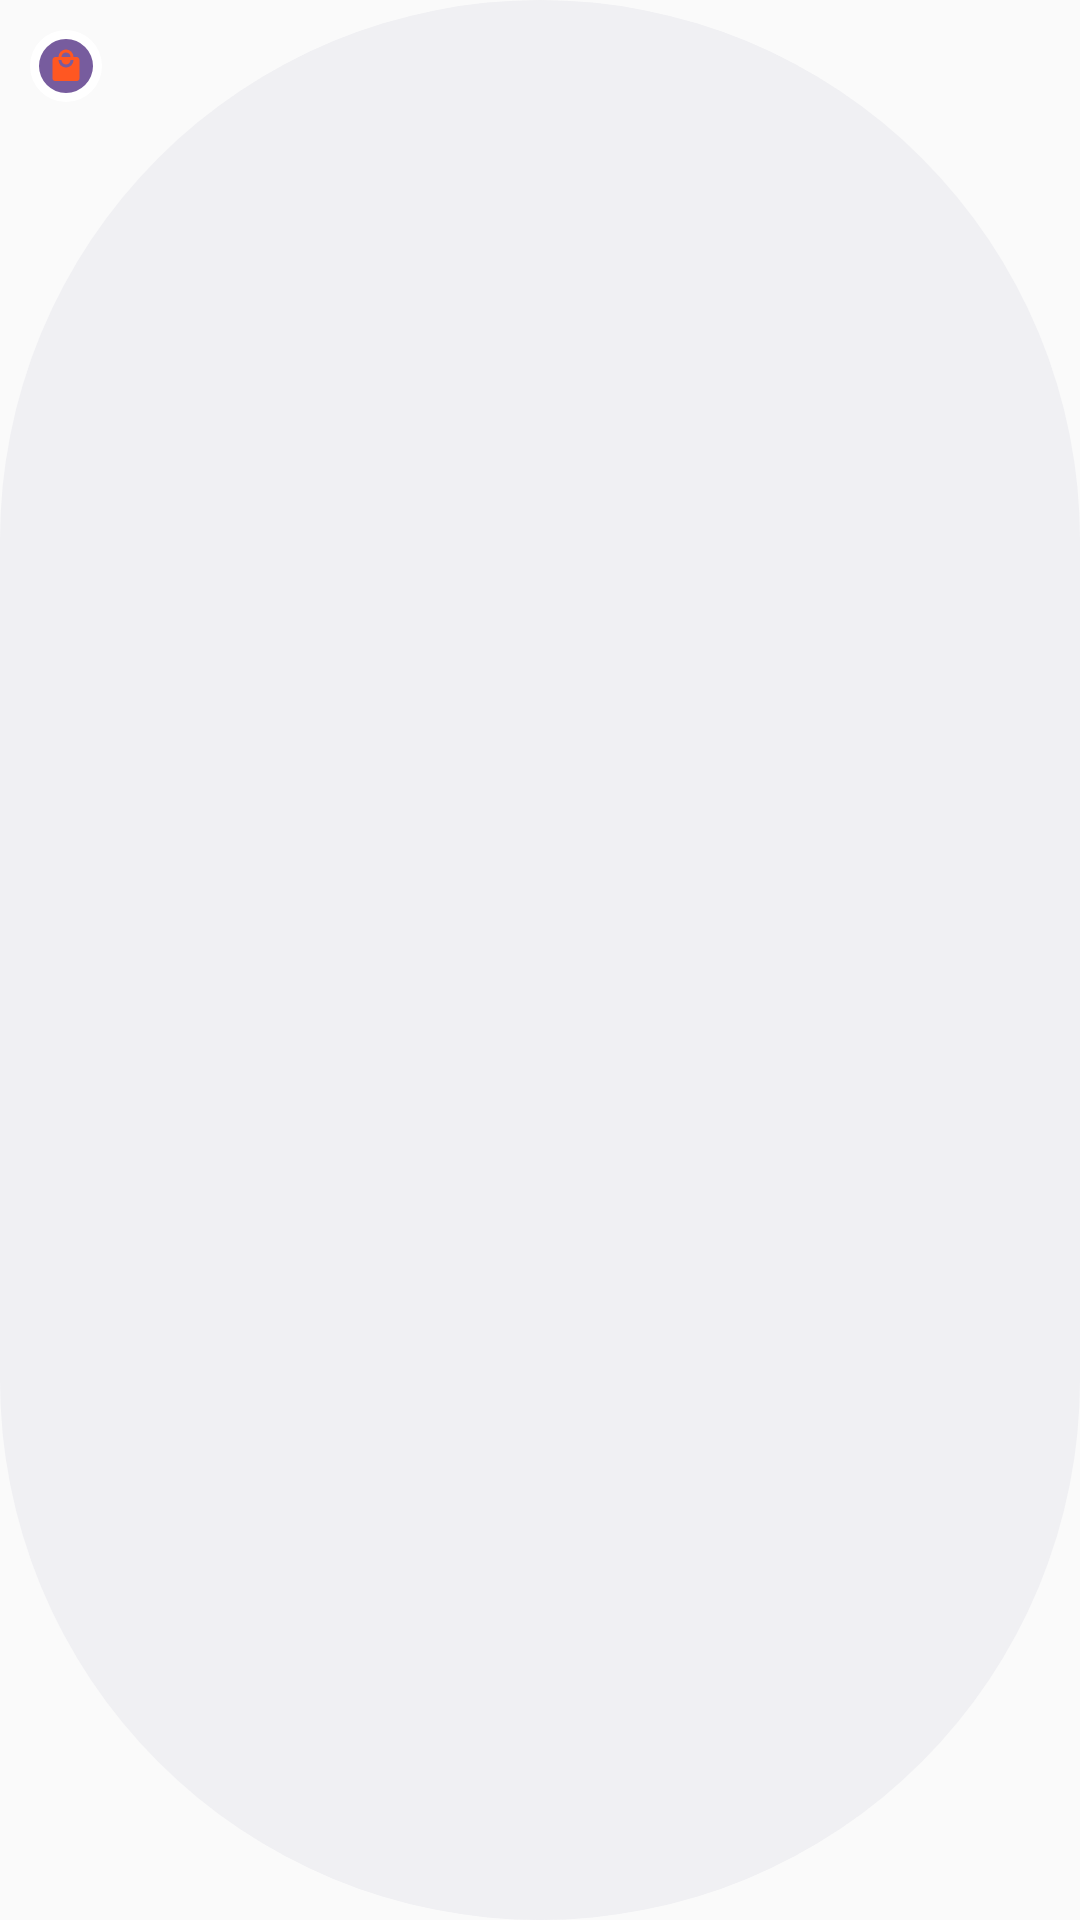

Where to tap for icons on this 1080×1920 app screen, as (x,y):
shopping round: (66,66)
